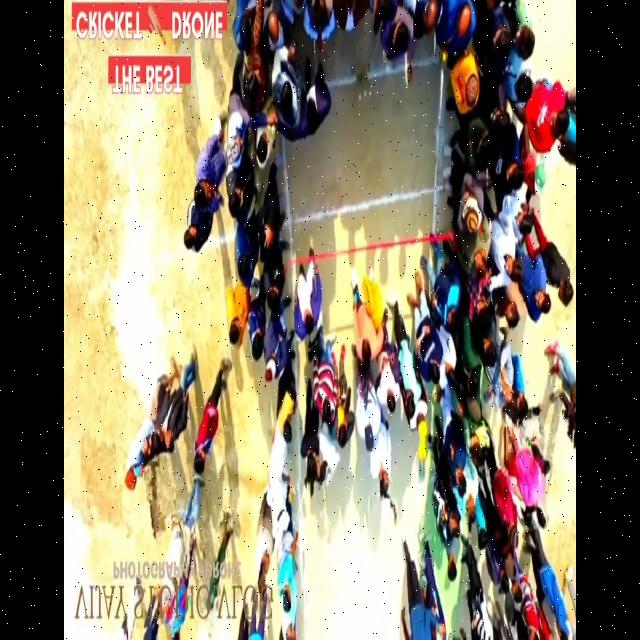humans: (148, 350, 198, 453), (195, 358, 231, 480), (351, 260, 384, 372), (192, 114, 224, 214), (520, 242, 553, 332), (292, 237, 320, 343), (274, 42, 304, 134), (309, 344, 338, 429), (415, 290, 440, 388), (263, 309, 294, 386), (451, 175, 483, 246), (240, 53, 272, 121), (492, 136, 527, 197), (303, 59, 330, 136), (356, 371, 380, 457), (448, 52, 480, 114), (434, 263, 461, 336), (448, 409, 468, 505), (225, 275, 247, 357), (384, 15, 416, 71), (227, 169, 258, 225), (401, 316, 417, 422), (275, 380, 299, 449), (552, 243, 576, 312), (492, 235, 522, 290), (444, 0, 475, 52), (182, 212, 218, 256), (502, 194, 534, 241), (493, 346, 514, 416), (224, 114, 251, 167), (372, 440, 395, 502), (334, 0, 370, 39), (264, 256, 286, 315), (275, 558, 298, 613), (377, 362, 399, 418), (513, 353, 530, 425), (236, 0, 258, 55), (257, 508, 274, 579), (266, 0, 288, 54), (418, 0, 445, 43), (468, 232, 492, 280), (254, 124, 277, 173), (444, 540, 466, 590), (249, 297, 264, 366), (436, 505, 461, 546), (464, 461, 479, 527), (303, 0, 328, 39), (122, 453, 143, 499), (137, 424, 153, 464), (279, 615, 303, 640)
